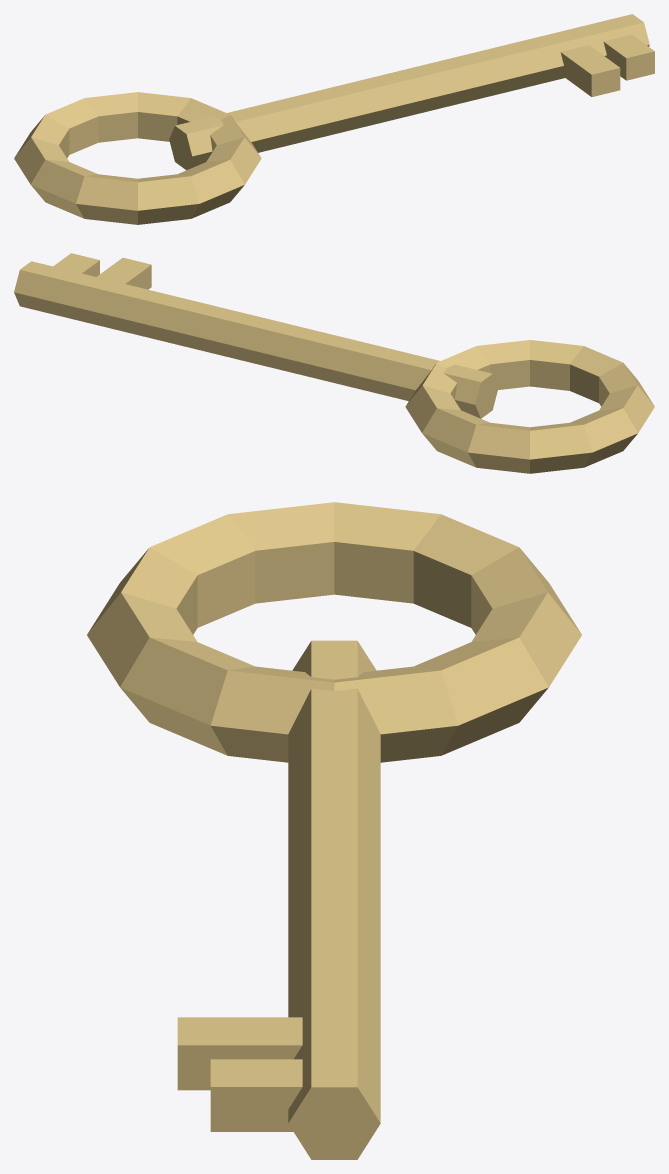
File: llave.glb
3 views of the same model, one above another, from view 1: azimuth 30°, elevation 25°; view 2: azimuth 150°, elevation 25°; view 3: azimuth 270°, elevation 25° (orthographic). The views are drawn at different scales.
Parts seen in each view (by area): view 1: llave; view 2: llave; view 3: llave.
Part boxes in pixels (<box>): llave: <box>14,14,654,224</box>; llave: <box>14,253,654,473</box>; llave: <box>87,502,581,1159</box>.
Bounding box in the file's own units: 0.085 × 0.00571 × 0.03.
